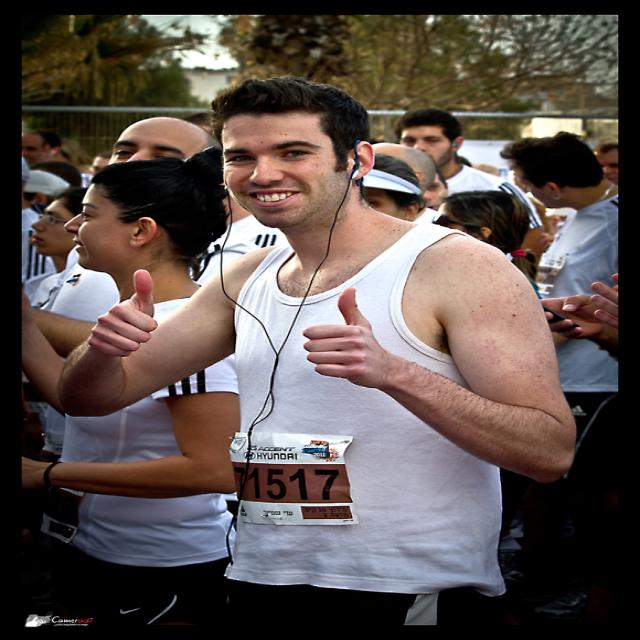Bib: (232, 466, 351, 505)
